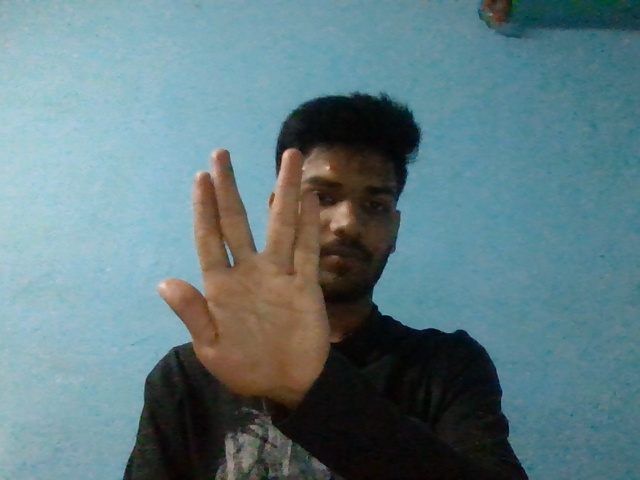Live Long: (157, 147, 329, 395)
